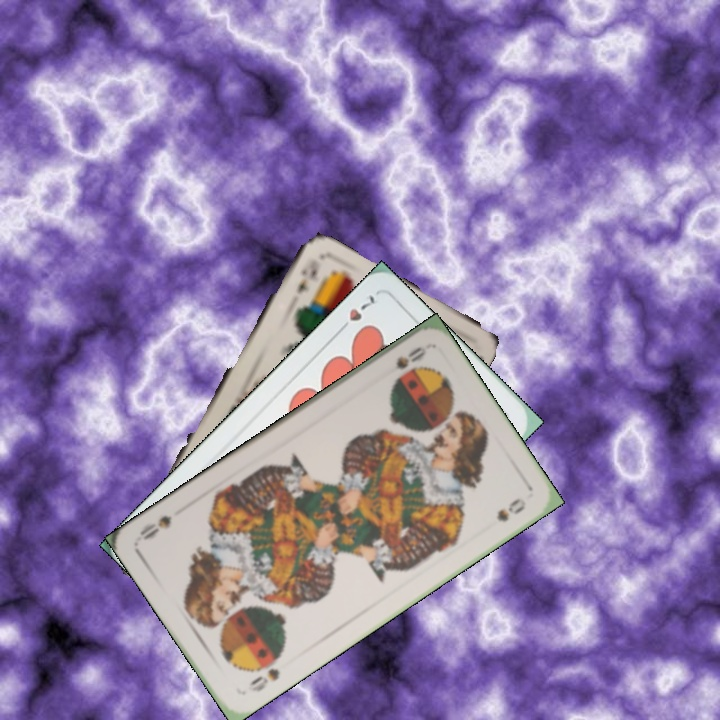EK: (292, 255, 323, 296)
H7: (333, 291, 380, 336)
SO: (244, 651, 285, 695), (391, 342, 429, 372)
